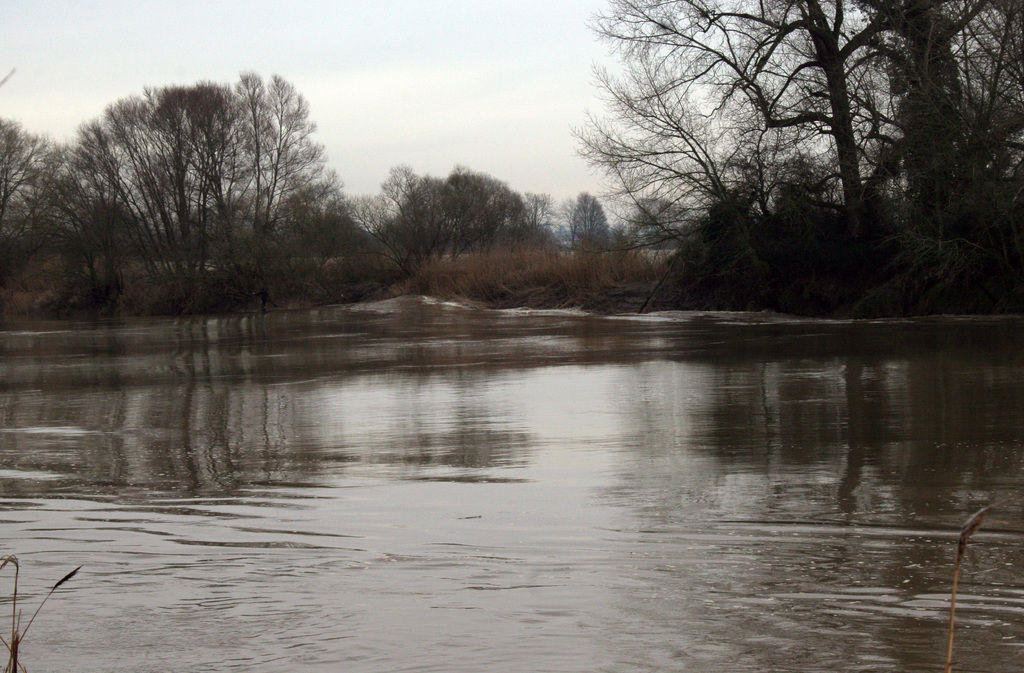Tree: (0, 0, 1023, 317)
